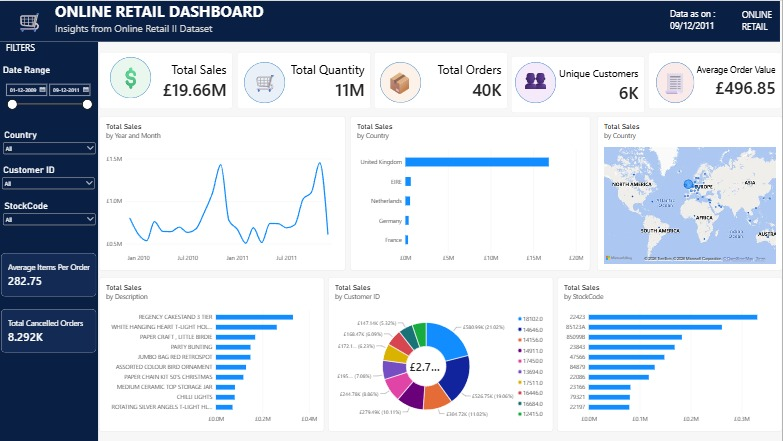

Layout of this report page (visuals, bound fields, positions):
{"tool":"powerbi","page":{"name":"Page 1","canvas":[1920,1080],"ordinal":0},"visuals":[{"type":"shape","box":[0,0,1915,100],"z":0},{"type":"shape","box":[0,100,240.8,980.6],"z":1000},{"type":"cardVisual","fields":{"Data":["public Online retail.Total Sales"]},"box":[244.2,125,328,140],"z":2000},{"type":"cardVisual","fields":{"Data":["public Online retail.Total Quantity"]},"box":[580.8,125,328,140],"z":3000},{"type":"cardVisual","fields":{"Data":["public Online retail.Total Orders"]},"box":[917.3,125,328,140],"z":4000},{"type":"cardVisual","fields":{"Data":["public Online retail.Unique Customers"]},"box":[1253.8,135.9,328,140],"z":5000},{"type":"cardVisual","fields":{"Data":["public Online retail.Average Order Value"]},"box":[1590.4,125,328,140],"z":6000},{"type":"lineChart","fields":{"Y":["public Online retail.Total Sales"],"Category":["public Online retail.InvoiceDate.Variation.Date Hierarchy.Year","public Online retail.InvoiceDate.Variation.Date Hierarchy.Month"]},"box":[244.3,282.9,605,380],"z":7000},{"type":"clusteredBarChart","fields":{"Category":["public Online retail.Country"],"Y":["public Online retail.Total Sales"]},"box":[860,283.1,590,380],"z":8000},{"type":"clusteredBarChart","fields":{"Y":["public Online retail.Total Sales"],"Category":["public Online retail.Description"]},"box":[244.3,677.1,553,380],"z":9000},{"type":"donutChart","fields":{"Category":["public Online retail.Customer ID"],"Y":["public Online retail.Total Sales"]},"box":[804.3,677.1,553,380],"z":10000},{"type":"clusteredBarChart","fields":{"Category":["public Online retail.StockCode"],"Y":["public Online retail.Total Sales"]},"box":[1367.1,677.1,553,380],"z":11000},{"type":"map","fields":{"Category":["public Online retail.Country"],"Size":["public Online retail.Total Sales"]},"box":[1464.6,283.1,456,380],"z":12000},{"type":"slicer","fields":{"Values":["public Online retail.Country"]},"box":[1.6,314.3,237,100],"z":13000},{"type":"slicer","title":"Customer ID","fields":{"Values":["public Online retail.Customer ID"]},"box":[0,400,237,100],"z":14000},{"type":"slicer","fields":{"Values":["public Online retail.StockCode"]},"box":[3.2,488.9,237,100],"z":15000},{"type":"slicer","title":"Date Range","fields":{"Values":["public Online retail.InvoiceDate"]},"box":[8.1,155.6,223.8,127],"z":16000},{"type":"textbox","box":[135,0,600,60],"z":17000},{"type":"textbox","box":[135,50,480,32.5],"z":18000},{"type":"textbox","box":[1644.7,17,136.2,66],"z":19000},{"type":"textbox","box":[1780,18.6,125.7,64.3],"z":20000},{"type":"textbox","box":[40.3,17.9,77.6,65.7],"z":21000},{"type":"textbox","box":[14.3,100,106.3,38.1],"z":22000},{"type":"cardVisual","fields":{"Data":["public Online retail.Average Items Per Order"]},"box":[2.6,618.4,234.2,107.9],"z":23000},{"type":"cardVisual","fields":{"Data":["Count(public cancelled_orders.Invoice)"]},"box":[3.4,755.2,234,107],"z":24000},{"type":"shape","box":[270,138.6,101,101.4],"z":25000},{"type":"textbox","box":[283.6,100,80.6,140.3],"z":26000},{"type":"shape","box":[600,150,101,101],"z":27000},{"type":"textbox","box":[620,170,68.8,80.6],"z":28000},{"type":"shape","box":[932,150,101,100],"z":29000},{"type":"textbox","box":[945.9,161.5,86.9,89.3],"z":30000},{"type":"shape","box":[1264.1,150,101,101],"z":31000},{"type":"textbox","box":[1279.3,150,85.9,101.1],"z":32000},{"type":"shape","box":[1610.7,150,94.3,100.8],"z":33000},{"type":"textbox","box":[1621.3,161.5,83.6,89.3],"z":34000},{"type":"textbox","box":[100,100,300,300],"z":35000}]}

Visuals, with their boxes in screenshot pixels (x1, y1, x2, y2), scaled from the page's 1920x1080 canvas onto the 783x441 screenshot:
shape: crop(0, 0, 781, 41)
shape: crop(0, 41, 98, 440)
cardVisual - public Online retail.Total Sales: crop(100, 51, 233, 108)
cardVisual - public Online retail.Total Quantity: crop(237, 51, 371, 108)
cardVisual - public Online retail.Total Orders: crop(374, 51, 508, 108)
cardVisual - public Online retail.Unique Customers: crop(511, 55, 645, 113)
cardVisual - public Online retail.Average Order Value: crop(649, 51, 782, 108)
lineChart - public Online retail.Total Sales x public Online retail.InvoiceDate.Variation.Date Hierarchy.Year: crop(100, 116, 346, 271)
clusteredBarChart - public Online retail.Country x public Online retail.Total Sales: crop(351, 116, 591, 271)
clusteredBarChart - public Online retail.Total Sales x public Online retail.Description: crop(100, 276, 325, 432)
donutChart - public Online retail.Customer ID x public Online retail.Total Sales: crop(328, 276, 554, 432)
clusteredBarChart - public Online retail.StockCode x public Online retail.Total Sales: crop(558, 276, 782, 432)
map - public Online retail.Country x public Online retail.Total Sales: crop(597, 116, 782, 271)
slicer - public Online retail.Country: crop(1, 128, 97, 169)
"Customer ID" slicer: crop(0, 163, 97, 204)
slicer - public Online retail.StockCode: crop(1, 200, 98, 240)
"Date Range" slicer: crop(3, 64, 95, 115)
textbox: crop(55, 0, 300, 24)
textbox: crop(55, 20, 251, 34)
textbox: crop(671, 7, 726, 34)
textbox: crop(726, 8, 777, 34)
textbox: crop(16, 7, 48, 34)
textbox: crop(6, 41, 49, 56)
cardVisual - public Online retail.Average Items Per Order: crop(1, 253, 97, 297)
cardVisual - Count(public cancelled_orders.Invoice): crop(1, 308, 97, 352)
shape: crop(110, 57, 151, 98)
textbox: crop(116, 41, 149, 98)
shape: crop(245, 61, 286, 102)
textbox: crop(253, 69, 281, 102)
shape: crop(380, 61, 421, 102)
textbox: crop(386, 66, 421, 102)
shape: crop(516, 61, 557, 102)
textbox: crop(522, 61, 557, 103)
shape: crop(657, 61, 695, 102)
textbox: crop(661, 66, 695, 102)
textbox: crop(41, 41, 163, 163)
